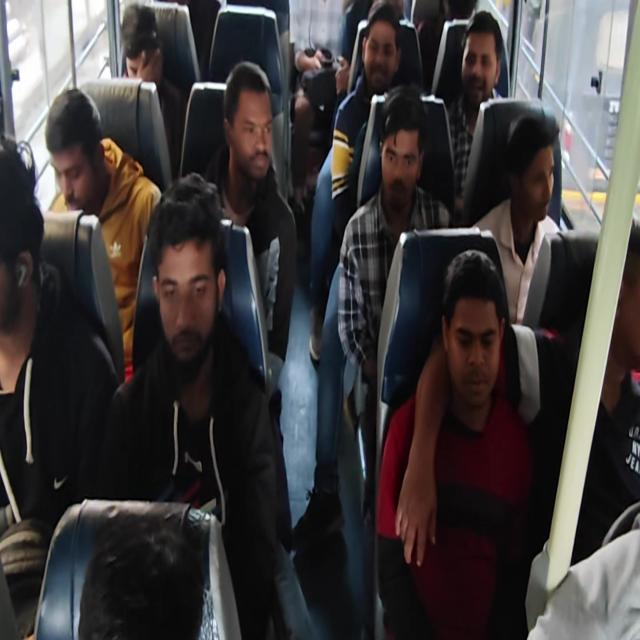person: (1, 1, 638, 638), (101, 172, 312, 638), (292, 86, 453, 540), (376, 248, 534, 638), (0, 133, 117, 637), (526, 215, 640, 636), (337, 88, 452, 396), (44, 87, 162, 381), (308, 2, 402, 364), (203, 60, 297, 397), (470, 112, 563, 327), (77, 511, 205, 639), (526, 514, 640, 639), (288, 0, 348, 215), (446, 10, 506, 212), (120, 3, 187, 175)
